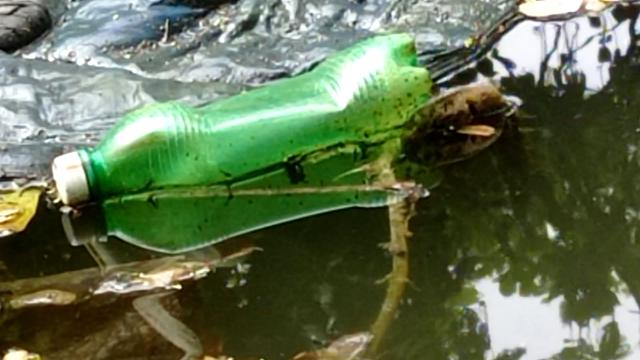bottle: (40, 21, 436, 241)
